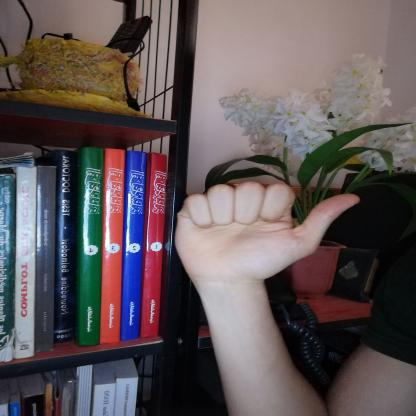DAD: (161, 172, 371, 292)
